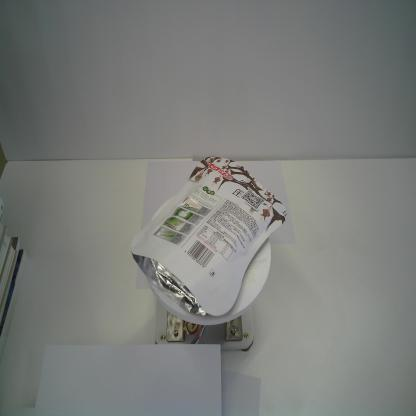Dried Fruit: (130, 154, 288, 318)
